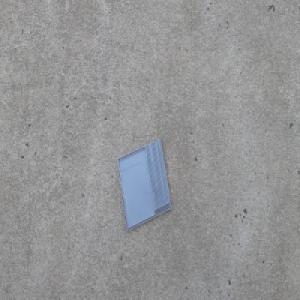PlasticPart: (116, 137, 172, 232)
